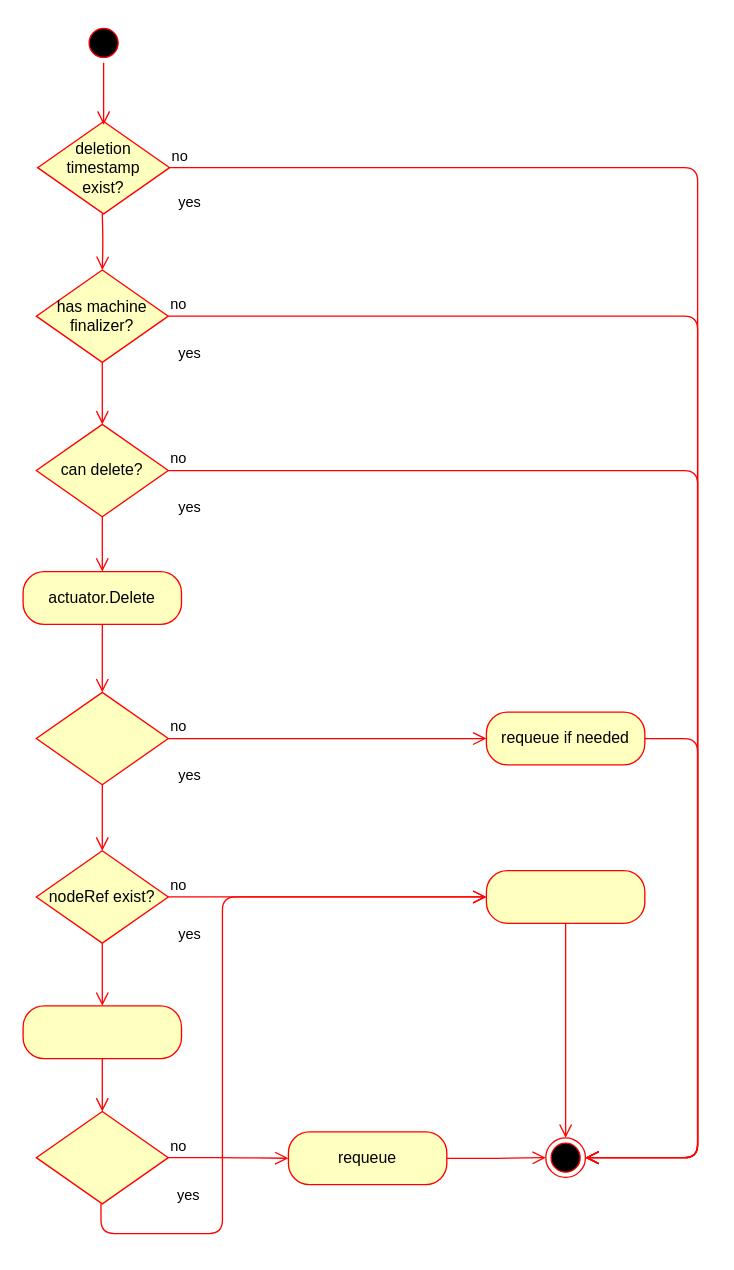
Image size: 734x1270. Some labels were removed from this diagram. Here are the shapes that lost their labels. From the top down, the box of each, then its label:
(35, 691, 168, 785): succeed
(485, 869, 645, 923): Remove machine finalizer
(22, 1005, 182, 1059): delete node
(35, 1110, 168, 1204): succeed?
